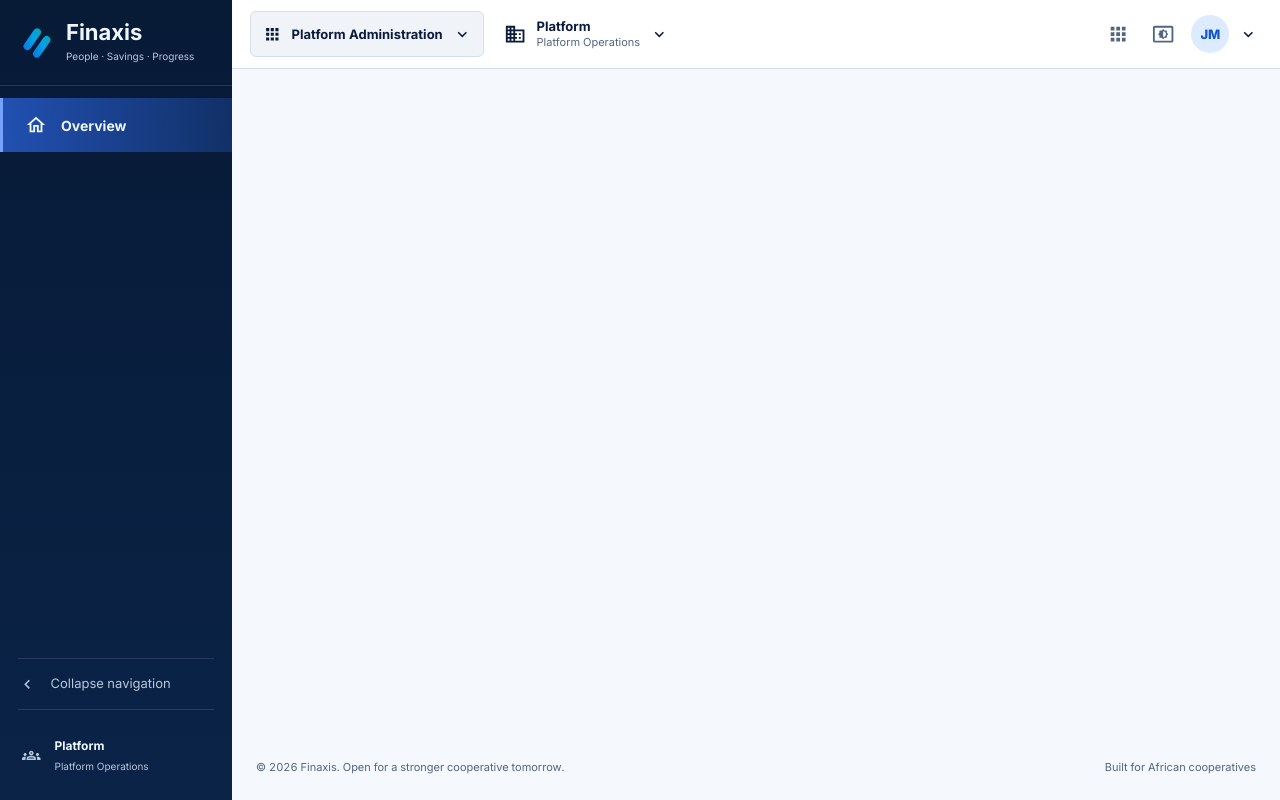
AppShell › clears the collapse cookie when the rail expands again
Click the button "Collapse navigation" at [116, 684], box [18,658,214,710]
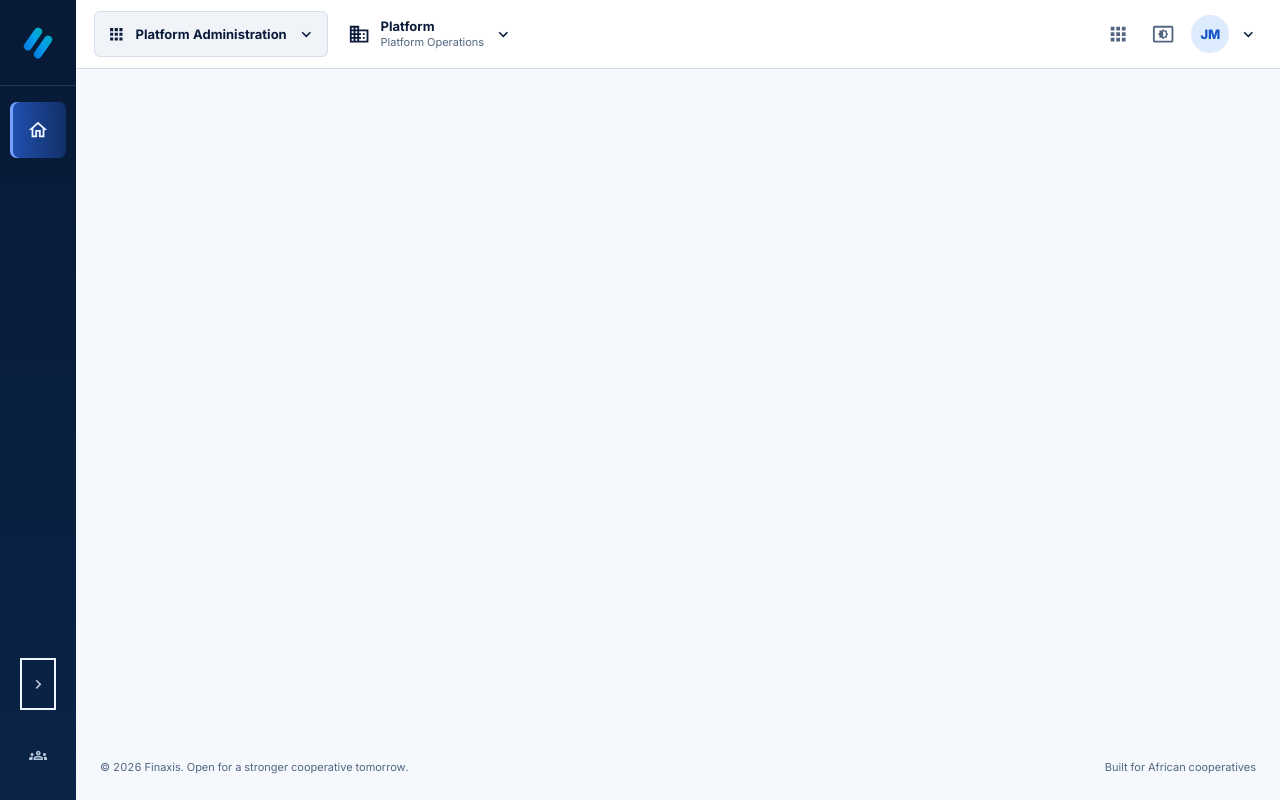
Click the button named "Expand navigation" at [38, 684], box [20,658,56,710]
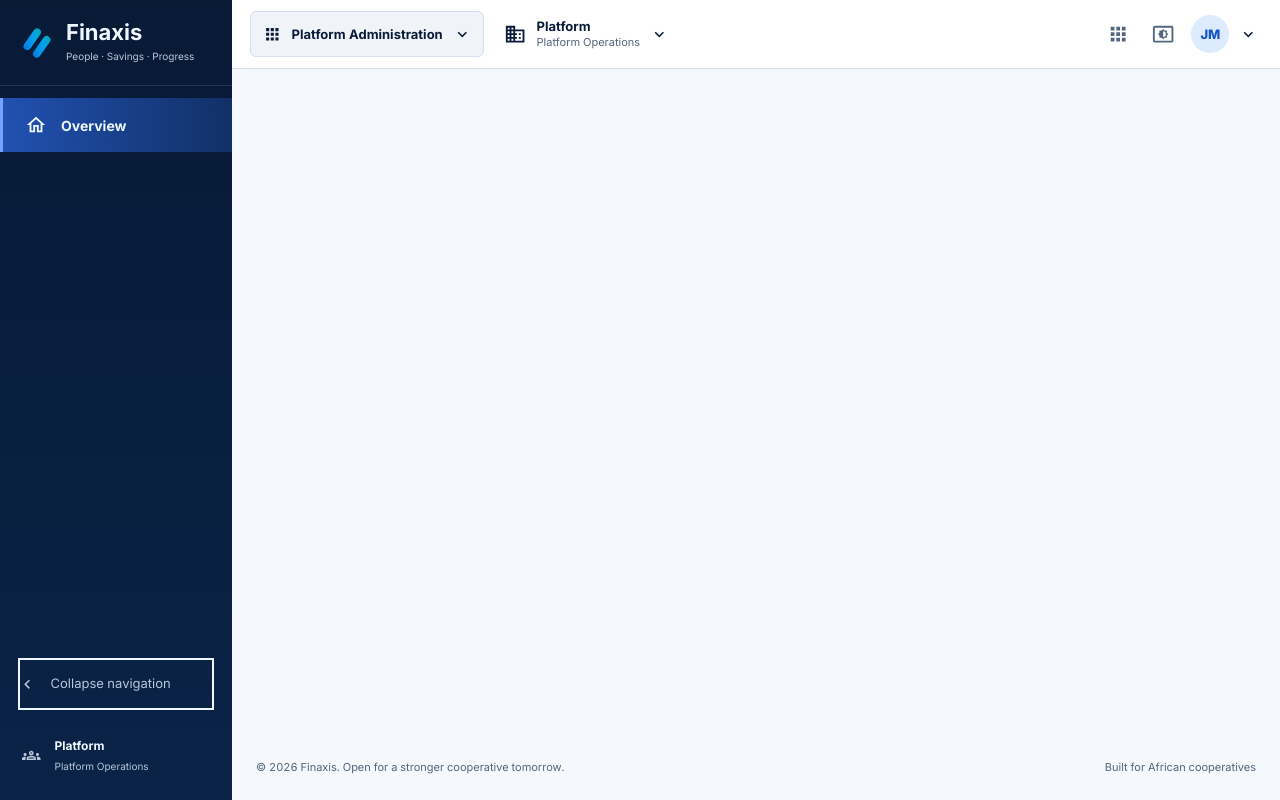
Check: the button "Collapse navigation" is shown, box [18,658,214,710]
